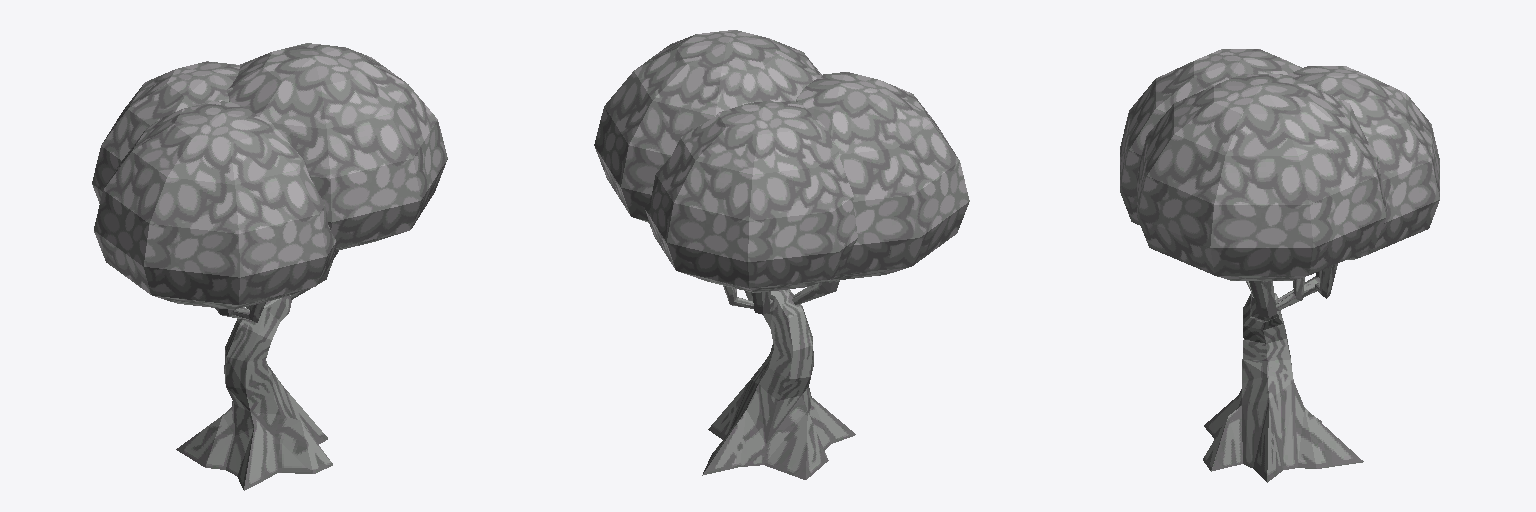
3 views of the same model, side by side, from view 1: azimuth 30°, elevation 25°; view 2: azimuth 150°, elevation 25°; view 3: azimuth 270°, elevation 25° (orthographic).
Parts seen in each view (by area): view 1: Mesh_0024, Mesh_0025; view 2: Mesh_0024, Mesh_0025; view 3: Mesh_0024, Mesh_0025.
Part boxes in pixels (x1,y1,x2,y2): Mesh_0024: (92,43,447,309); Mesh_0025: (176,262,332,490); Mesh_0024: (594,30,969,292); Mesh_0025: (702,280,855,479); Mesh_0024: (1120,49,1439,280); Mesh_0025: (1203,264,1363,482).
Size of the model in its own units: 4.69 by 5.55 by 4.14.
Materials: 2 (2 with a texture image).